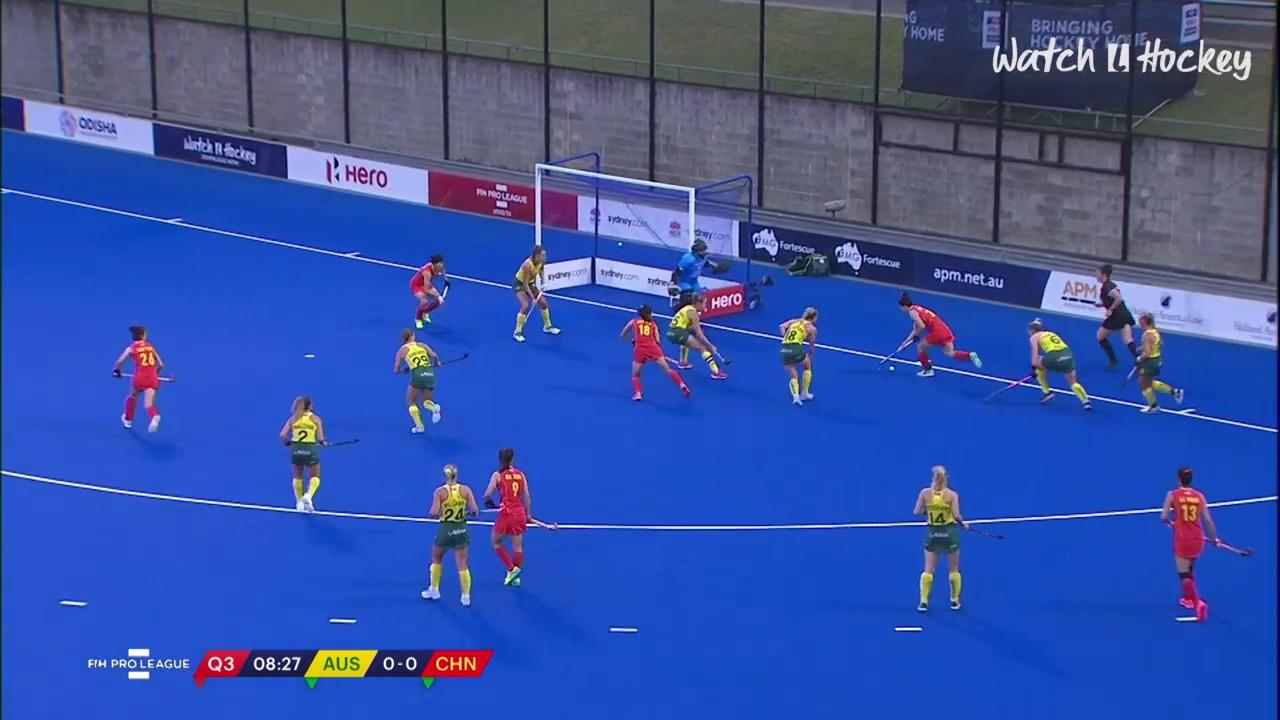ball: (884, 357, 898, 375)
